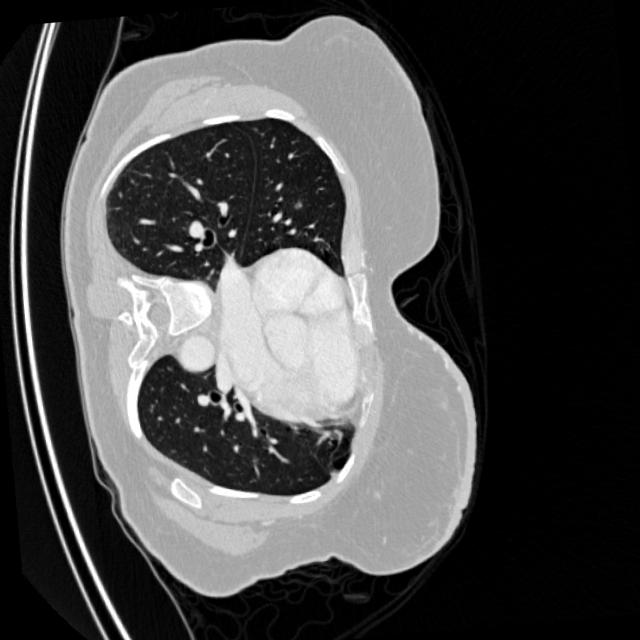nodule: (288, 193, 310, 215)
